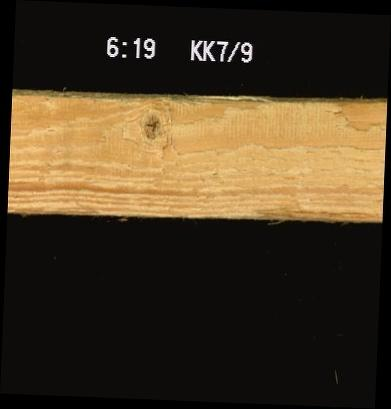sound_knot: (132, 103, 170, 151)
wave: (248, 203, 381, 221)
